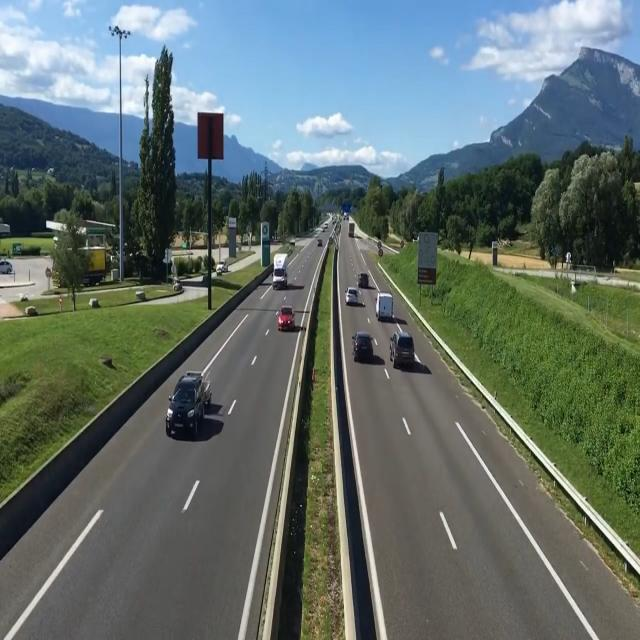car: (168, 368, 221, 445), (392, 331, 421, 374), (270, 245, 293, 291), (277, 294, 297, 336), (354, 330, 374, 367), (374, 292, 394, 326), (343, 284, 362, 308), (357, 262, 371, 292)
